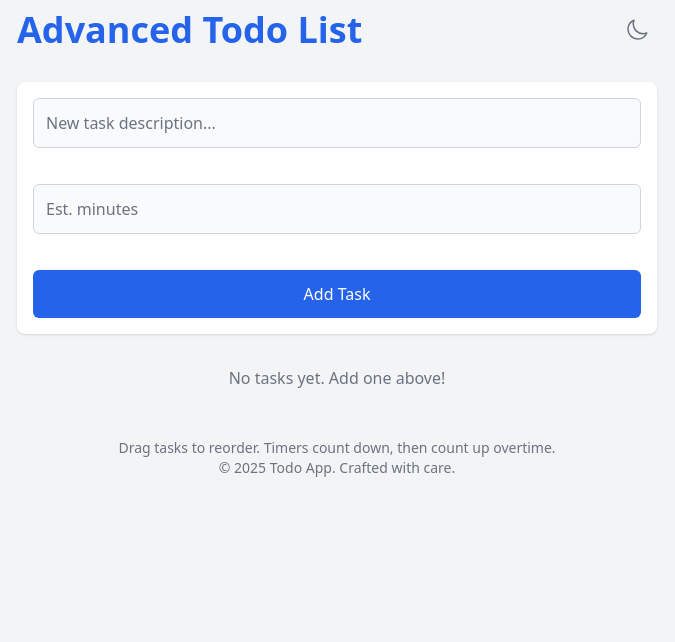
Test: Inline edit task › edits task text and duration inline and saves
This screenshot has width=675, height=642.
Note: Add initial task with 1 minute
Type "Old Task" into the field labelled "New task description...".
click(337, 123); type("Old Task")  # box [33,98,641,148]
Type "1" into the number field named "estimated duration in minutes".
click(337, 209); type("1")  # box [33,184,641,234]
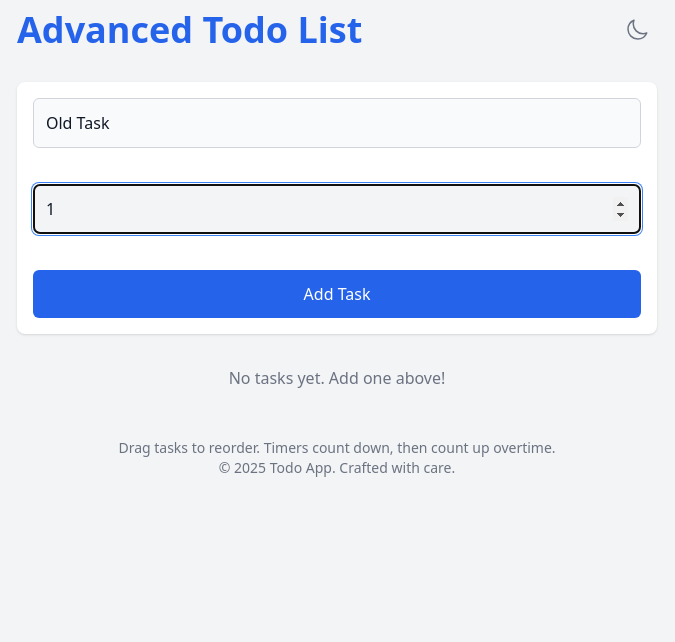
Click the button "Add Task".
click(337, 294)  # box [33,270,641,318]
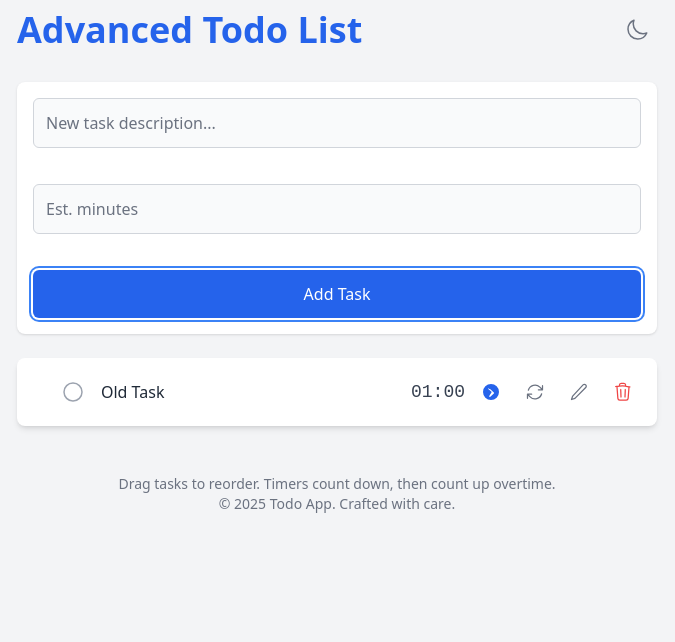
Note: Enter edit mode for the created task row
Click the button named "edit task".
click(579, 392)  # box [561,374,597,410]
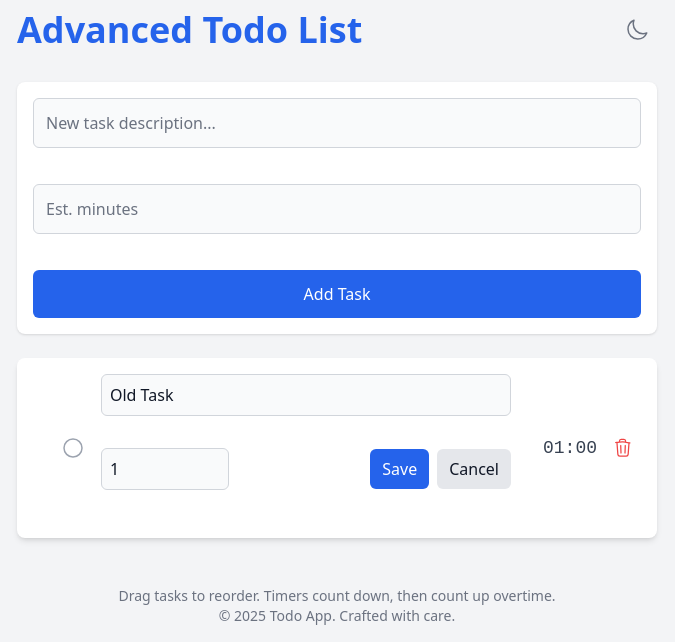
Note: Change text and duration
Replace the text in the field named "Edit task text" with "New Task" at (306, 395), box [101,374,511,416]
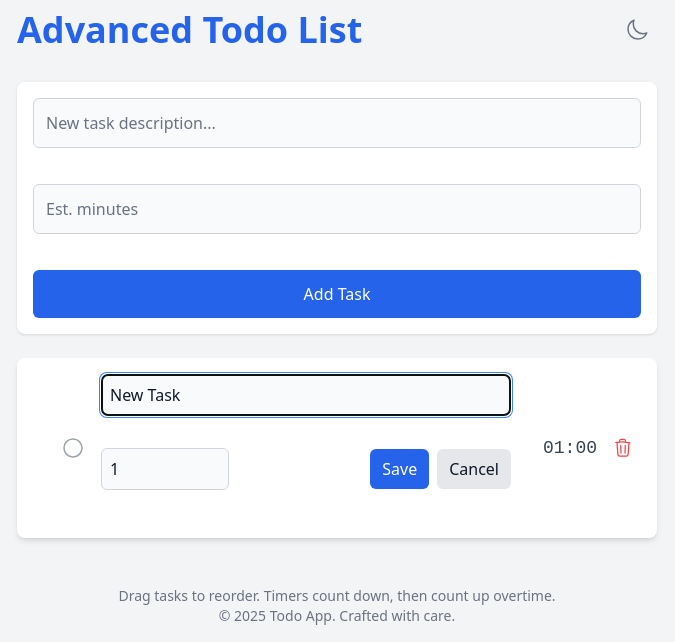
Replace the text in the number field named "edit estimated minutes" with "2" at (165, 469), box [101,448,229,490]
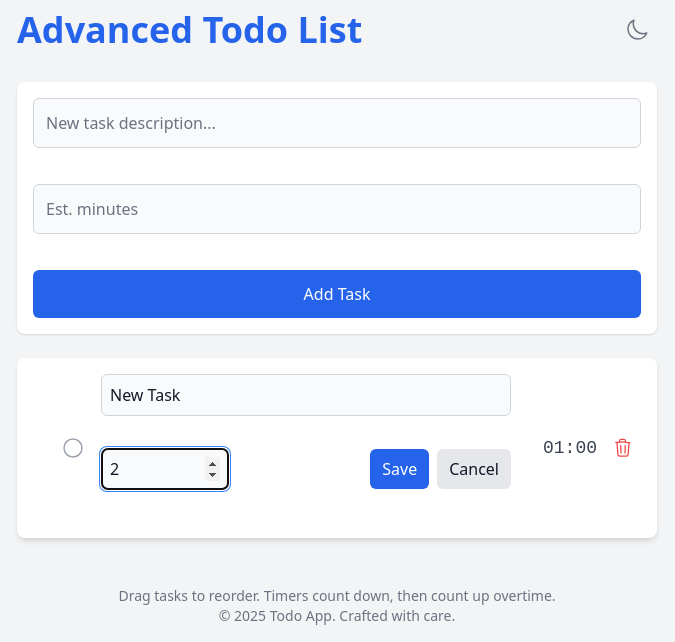
Click the button with aria-label "save changes".
click(400, 469)  # box [370,449,429,489]
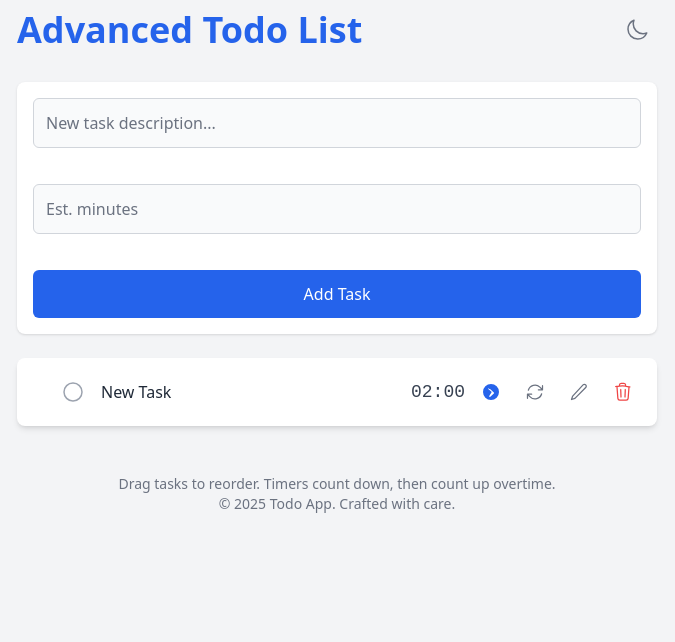
Result: the text "New Task" is shown at [101,381,171,403]
Result: the text "02:00" is shown at [411,382,465,402]
